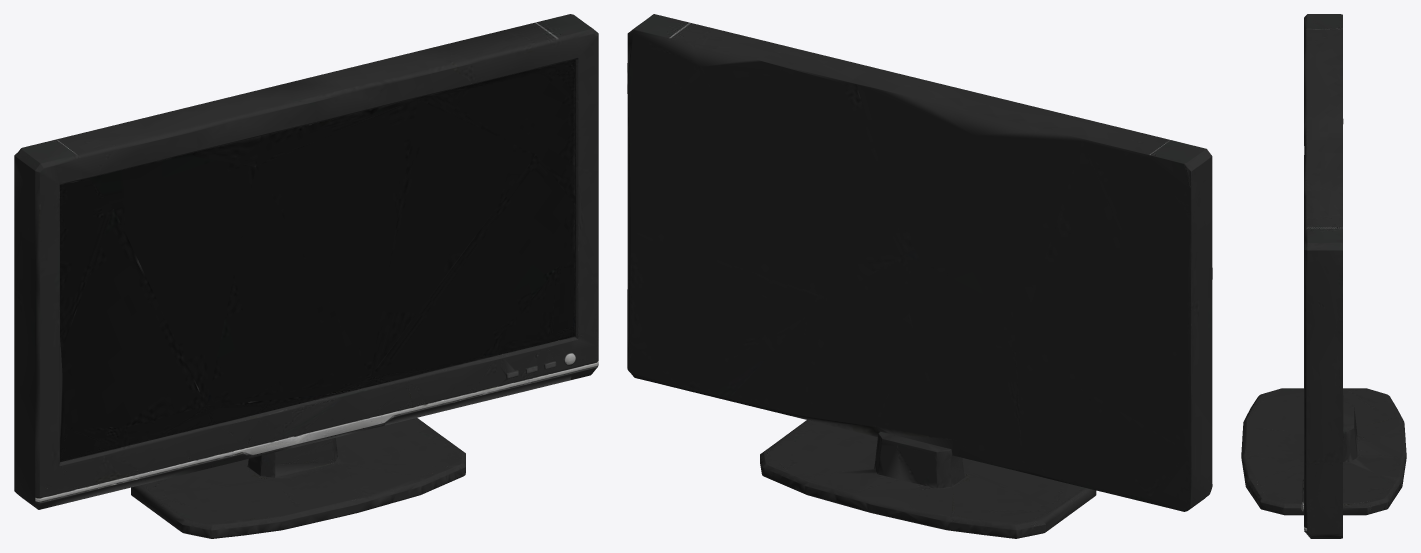
3 views of the same model, side by side, from view 1: azimuth 30°, elevation 25°; view 2: azimuth 150°, elevation 25°; view 3: azimuth 270°, elevation 25° (orthographic). The views are drawn at different scales.
Bounding box in the file's own units: 1.36 × 0.9 × 0.406.
1 material, 1 textured.
